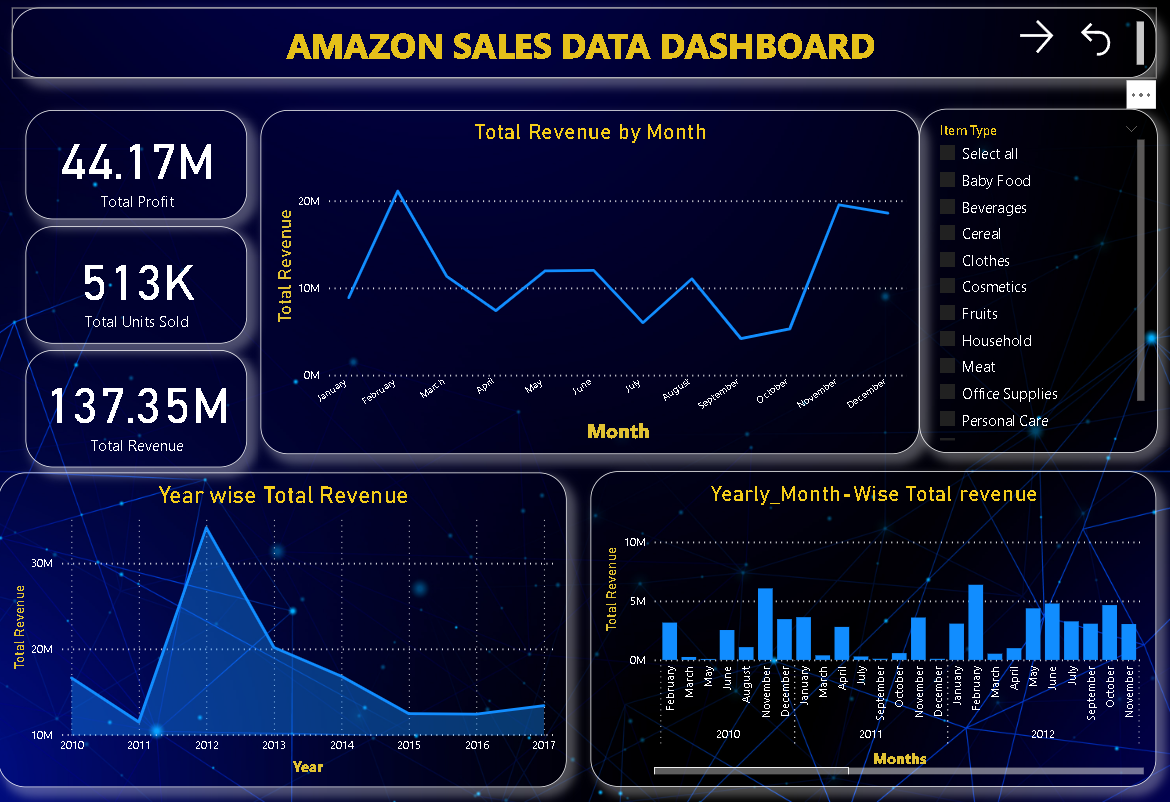

This screenshot's page, from the dashboard's own definition file:
{"tool":"powerbi","page":{"name":" Sales Analysis","canvas":[1280,879],"ordinal":0},"visuals":[{"type":"textbox","box":[15.6,8.5,1247.6,76.7],"z":0},{"type":"areaChart","title":"Year wise Total Revenue","fields":{"Category":["Amazon Sales data.Ship Date.Variation.Date Hierarchy.Year"],"Y":["Sum(Amazon Sales data.Total Revenue)"]},"box":[0,515.7,620,342.9],"z":1000},{"type":"clusteredColumnChart","title":"Yearly_Month-Wise Total revenue","fields":{"Y":["Sum(Amazon Sales data.Total Revenue)"],"Category":["Amazon Sales data.Ship Date.Variation.Date Hierarchy.Year","Amazon Sales data.Ship Date.Variation.Date Hierarchy.Month"]},"box":[646.5,514.4,616.7,343.9],"z":2000},{"type":"lineChart","fields":{"Category":["Amazon Sales data.Ship Date.Variation.Date Hierarchy.Month"],"Y":["Sum(Amazon Sales data.Total Revenue)"]},"box":[285.9,119.5,718.2,375.5],"z":3000},{"type":"card","fields":{"Values":["Sum(Amazon Sales data.Units Sold)"]},"box":[29.8,247.2,241.6,127.9],"z":4000},{"type":"card","fields":{"Values":["Sum(Amazon Sales data.Total Revenue)"]},"box":[29.8,382.2,241.6,127.9],"z":5000},{"type":"card","fields":{"Values":["Sum(Amazon Sales data.Total Profit)"]},"box":[29.8,119.4,241.6,119.4],"z":6000},{"type":"slicer","fields":{"Values":["Amazon Sales data.Item Type"]},"box":[1004,119,260,375],"z":7000},{"type":"actionButton","box":[1172.9,18.6,54.3,47.1],"z":8000},{"type":"actionButton","box":[1108.6,15.7,64.3,47.1],"z":9000}]}

Visuals, with their boxes on the page's 1280x879 design canvas (x1, y1, x2, y2). These are canvas units, not pixel positions in the 1170x802 screenshot, which may show the page scaled, cropped or inside an application window:
textbox: [left=16, top=8, right=1263, bottom=85]
"Year wise Total Revenue" areaChart: [left=0, top=516, right=620, bottom=859]
"Yearly_Month-Wise Total revenue" clusteredColumnChart: [left=646, top=514, right=1263, bottom=858]
lineChart - Amazon Sales data.Ship Date.Variation.Date Hierarchy.Month x Sum(Amazon Sales data.Total Revenue): [left=286, top=120, right=1004, bottom=495]
card - Sum(Amazon Sales data.Units Sold): [left=30, top=247, right=271, bottom=375]
card - Sum(Amazon Sales data.Total Revenue): [left=30, top=382, right=271, bottom=510]
card - Sum(Amazon Sales data.Total Profit): [left=30, top=119, right=271, bottom=239]
slicer - Amazon Sales data.Item Type: [left=1004, top=119, right=1264, bottom=494]
actionButton: [left=1173, top=19, right=1227, bottom=66]
actionButton: [left=1109, top=16, right=1173, bottom=63]
